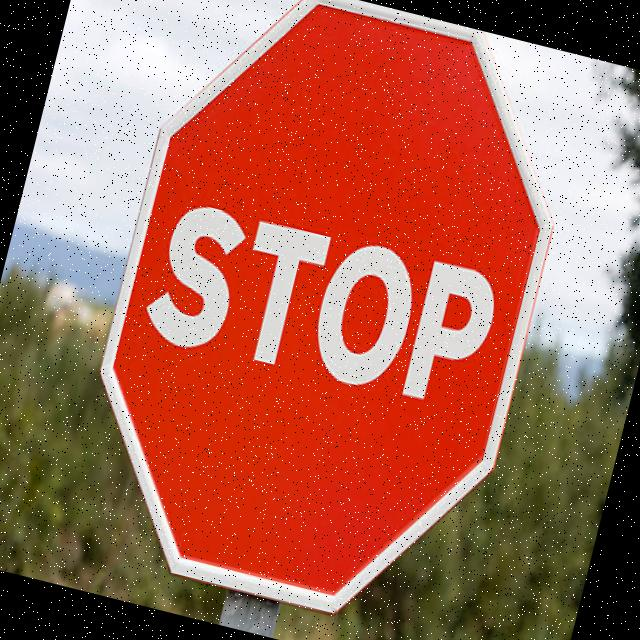stop: (41, 0, 598, 640)
